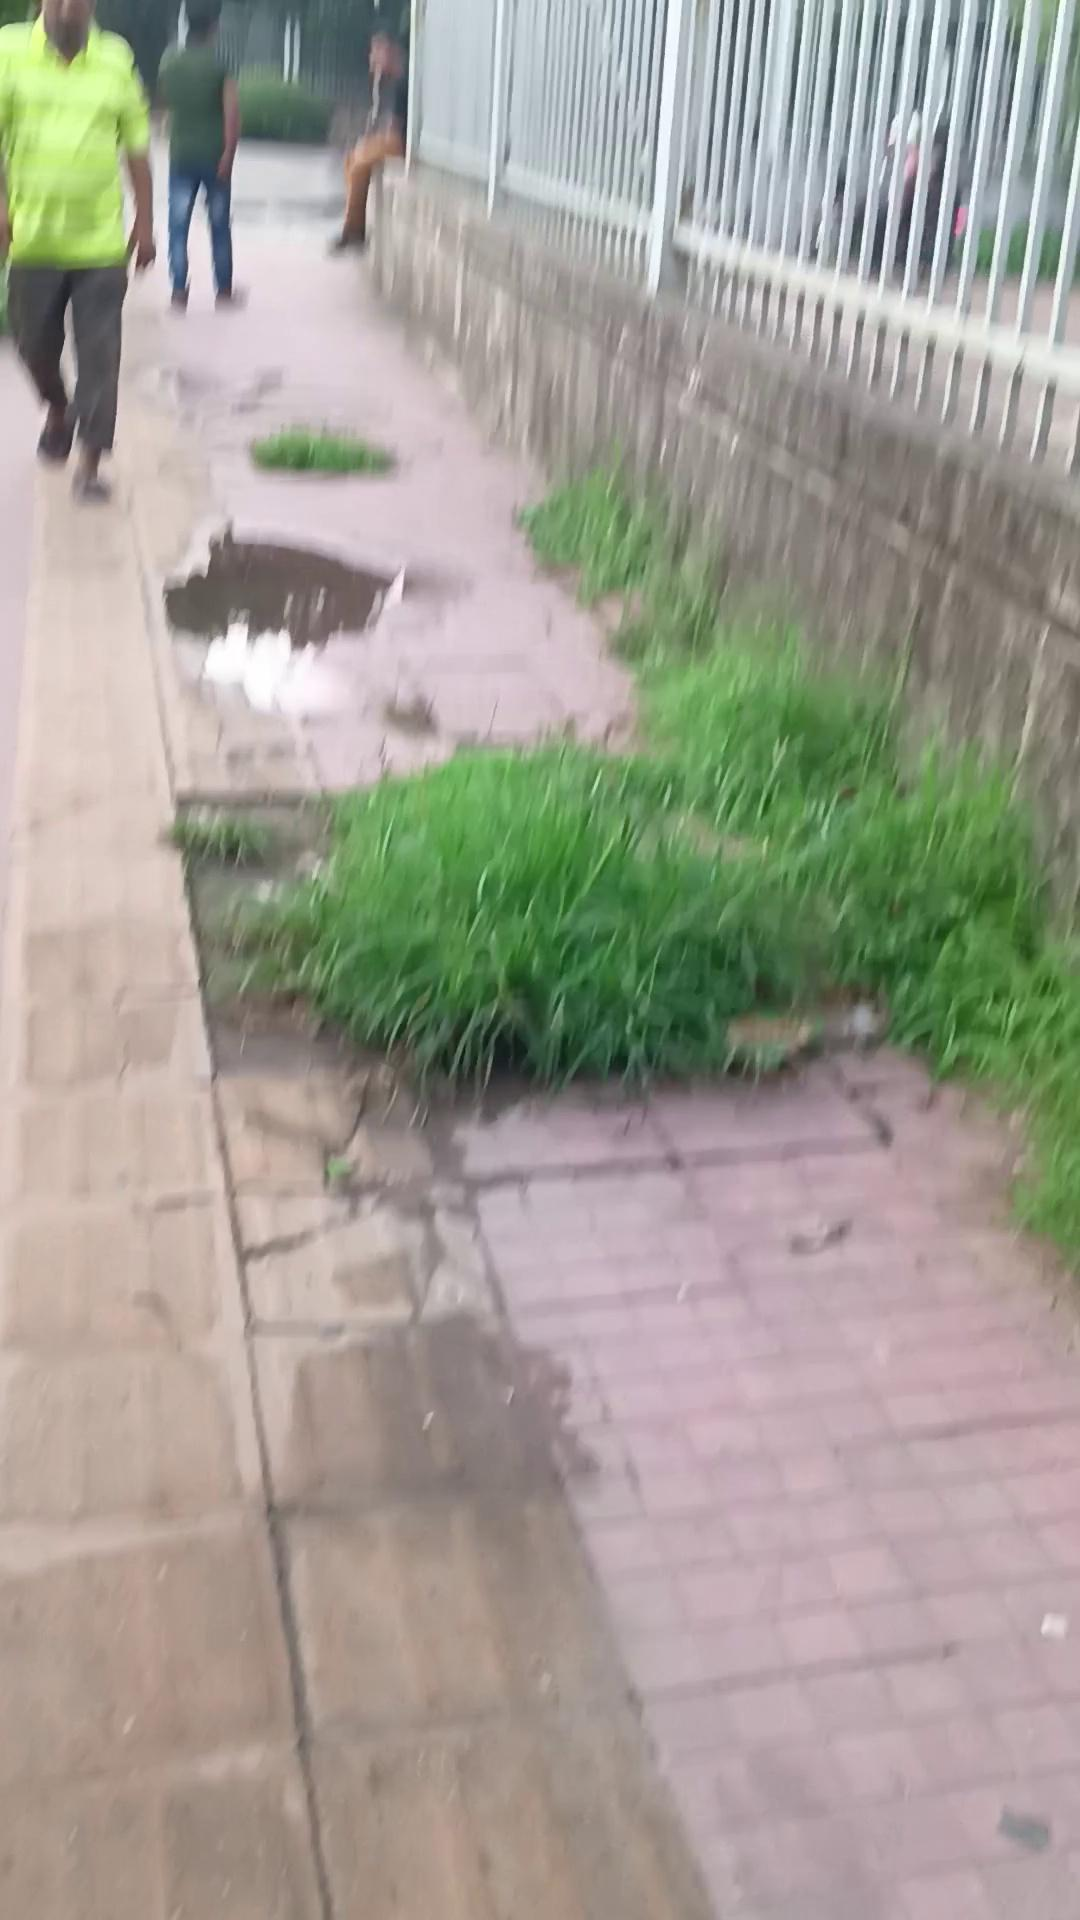Muddy road: (0, 1, 156, 502), (153, 1, 241, 313), (326, 26, 407, 255)
Potted-plant: (3, 202, 1080, 1915)
Railroad-crossing: (160, 516, 407, 658)
